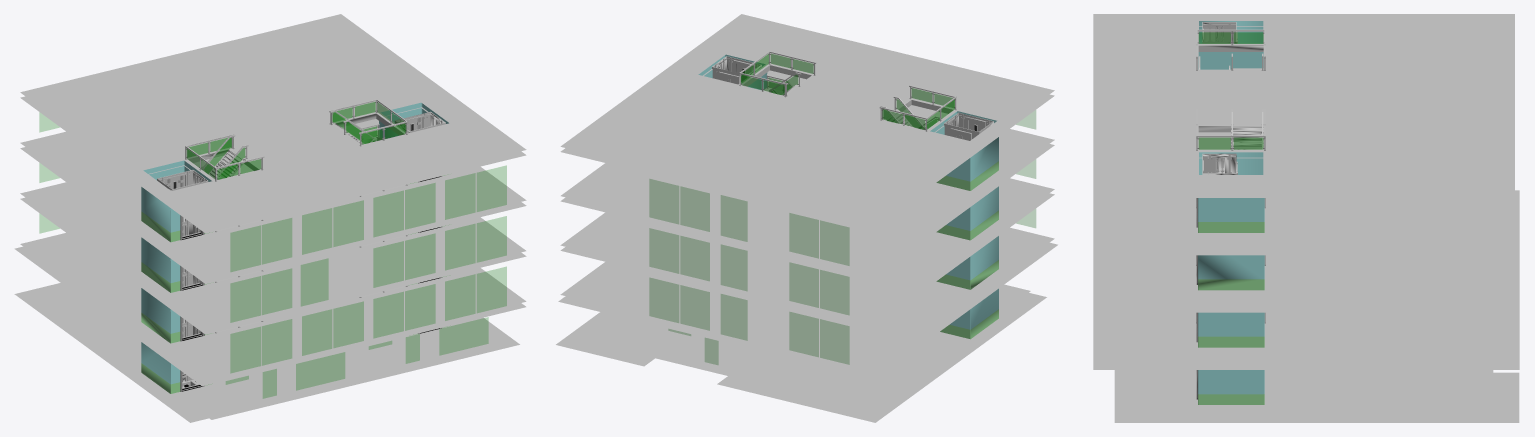
Rendered from SM_Building11_V3_Interior1.fbx.
3 renders of one model, left to right at view 1: azimuth 30°, elevation 25°; view 2: azimuth 150°, elevation 25°; view 3: azimuth 270°, elevation 25°, orthographic. The views are drawn at different scales.
Parts seen in each view (by area): view 1: SM_Building11_V3_Interior1; view 2: SM_Building11_V3_Interior1; view 3: SM_Building11_V3_Interior1.
Boxes of the visible parts, bbox=[...] form: SM_Building11_V3_Interior1: bbox=[14, 14, 526, 422]; SM_Building11_V3_Interior1: bbox=[556, 14, 1057, 422]; SM_Building11_V3_Interior1: bbox=[1093, 14, 1519, 422].
Size of the model in its own units: 2748 by 1833 by 2773.
